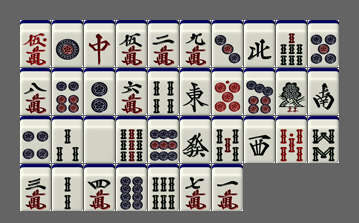0m: (20, 20, 51, 67)
0p: (212, 68, 243, 115)
0s: (276, 116, 307, 163)
1m: (212, 164, 243, 211)
1p: (52, 20, 83, 67)
1s: (276, 68, 307, 115)
1z: (180, 68, 211, 115)
2m: (148, 20, 179, 67)
2p: (84, 68, 115, 115)
2s: (52, 164, 83, 211)
2z: (308, 68, 339, 115)
3m: (20, 164, 51, 211)
3p: (212, 20, 243, 67)
3s: (52, 116, 83, 163)
3z: (244, 116, 275, 163)
4m: (84, 164, 115, 211)
4p: (20, 116, 51, 163)
4s: (148, 68, 179, 115)
4z: (244, 20, 275, 67)
5m: (116, 20, 147, 67)
5p: (308, 20, 339, 67)
5s: (212, 116, 243, 163)
5z: (84, 116, 115, 163)
6m: (116, 68, 147, 115)
6p: (52, 68, 83, 115)
6s: (148, 164, 179, 211)
6z: (180, 116, 211, 163)
7m: (180, 164, 211, 211)
7p: (244, 68, 275, 115)
7s: (276, 20, 307, 67)
7z: (84, 20, 115, 67)
8m: (20, 68, 51, 115)
8p: (116, 164, 147, 211)
8s: (308, 116, 339, 163)
9m: (180, 20, 211, 67)
9p: (148, 116, 179, 163)
9s: (116, 116, 147, 163)
